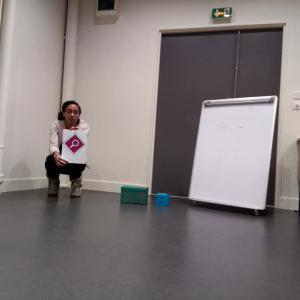search: (64, 133, 85, 153)
